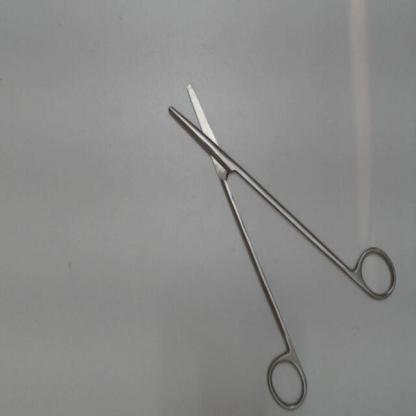9 Metzenbaum Scissors: (162, 70, 402, 414)
